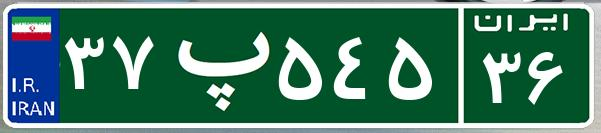3: (57, 26, 110, 107), (475, 38, 525, 113)
4: (330, 28, 385, 110)
5: (385, 28, 445, 110), (273, 28, 330, 110)
6: (525, 38, 570, 115)
7: (110, 28, 158, 105)
پ: (158, 15, 273, 115)
